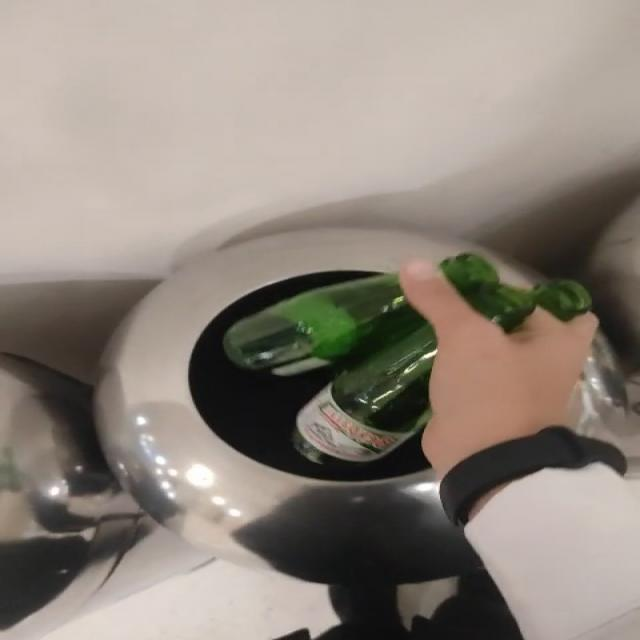Glass: (223, 274, 437, 463), (441, 253, 591, 331)
